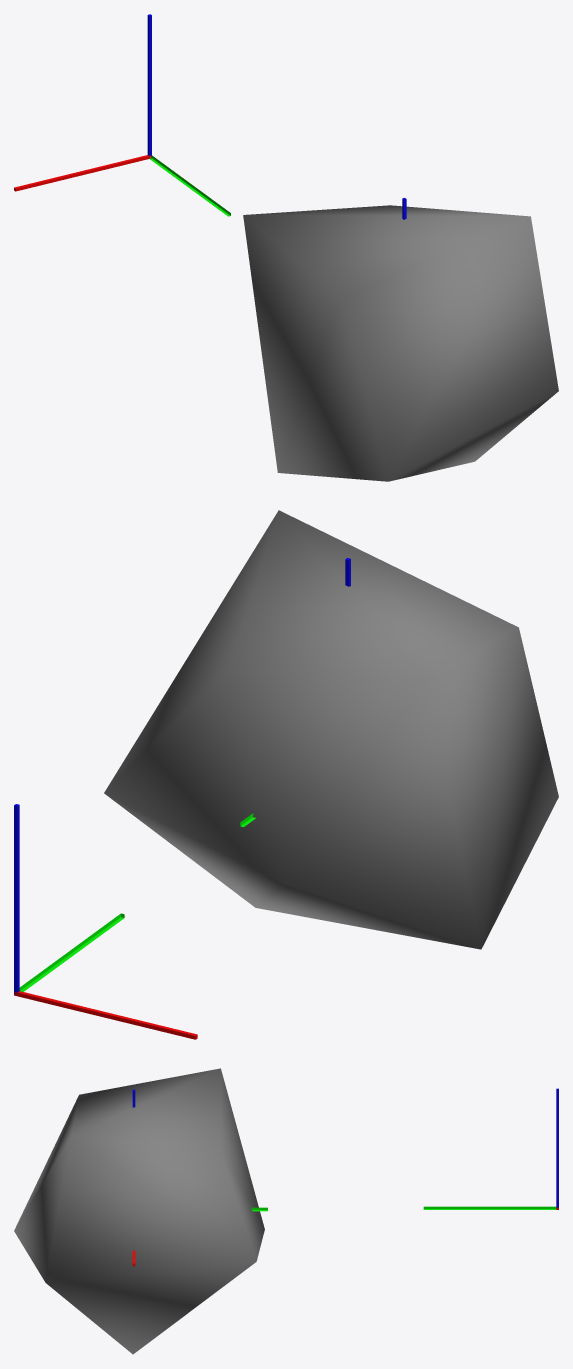
Rendered from catapult-b.glb.
3 views of the same model, one above another, from view 1: azimuth 30°, elevation 25°; view 2: azimuth 150°, elevation 25°; view 3: azimuth 270°, elevation 25° (orthographic). The views are drawn at different scales.
Visible parts, largest first — view 1: cat-bModel, Dummy_fire; view 2: cat-bModel, Dummy_fire; view 3: cat-bModel, Dummy_fire.
Part boxes in pixels (box(x1,y1,x2,y2)): cat-bModel: box(243, 205, 558, 481); Dummy_fire: box(14, 14, 230, 216); cat-bModel: box(104, 510, 558, 949); Dummy_fire: box(14, 804, 197, 1039); cat-bModel: box(14, 1068, 264, 1354); Dummy_fire: box(423, 1088, 558, 1209).
Size of the model in its own units: 0.5 by 0.4893 by 1.03.
2 materials, 1 textured.
